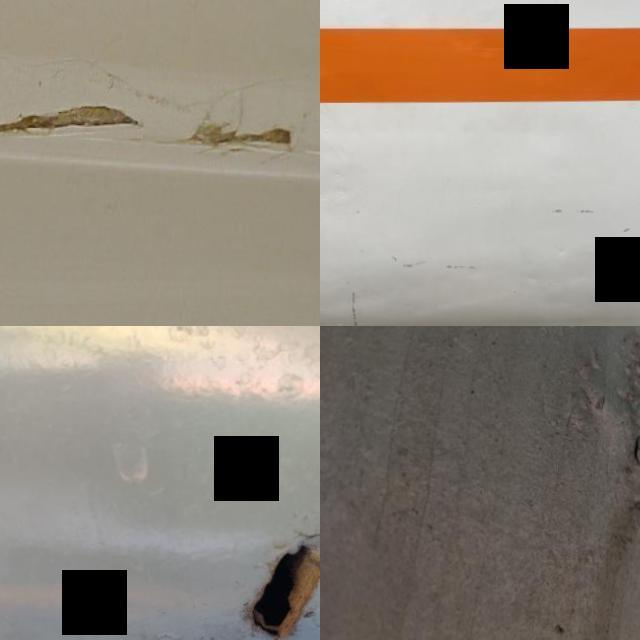Crack: (229, 525, 320, 640), (174, 107, 292, 151), (0, 101, 146, 136)
Dent: (524, 272, 552, 286), (558, 244, 576, 257)
